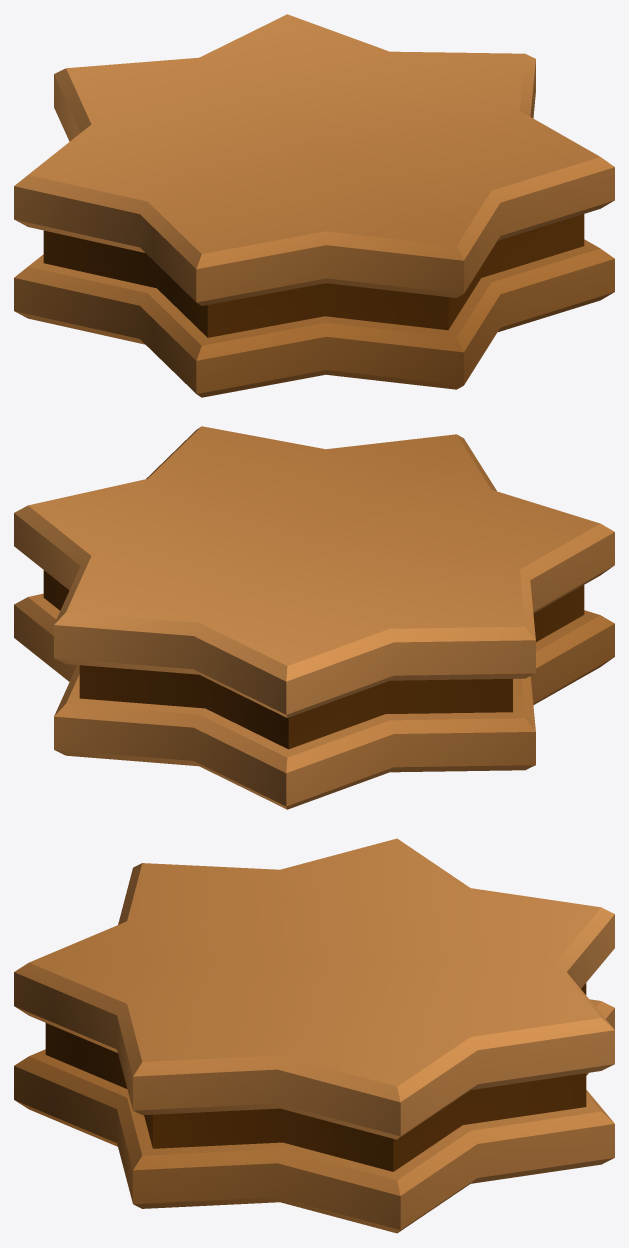
File: Biscuit_1.fbx
The picture shows the model from 3 angles, top to bottom: view 1: azimuth 30°, elevation 25°; view 2: azimuth 150°, elevation 25°; view 3: azimuth 270°, elevation 25°; orthographic projection. The views are drawn at different scales.
Parts seen in each view (by area): view 1: Biscuit_1; view 2: Biscuit_1; view 3: Biscuit_1.
Boxes of the visible parts, x1,y1,x2,y2 form: Biscuit_1: [14, 14, 614, 397]; Biscuit_1: [14, 426, 614, 809]; Biscuit_1: [14, 838, 614, 1233].
Size of the model in its own units: 0.0494 by 0.013 by 0.0481.
1 material, 1 textured.
